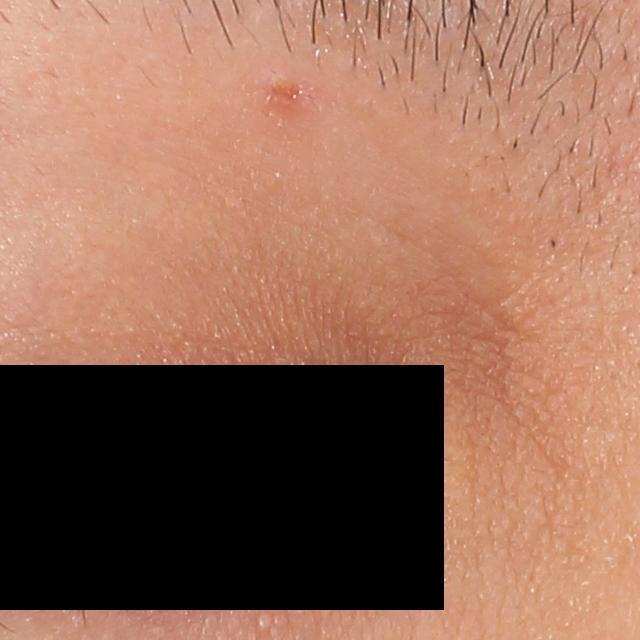papule: (269, 68, 312, 110)
